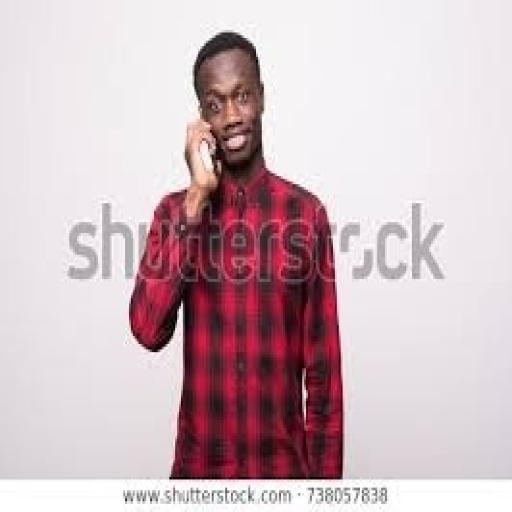calling: (125, 27, 345, 480)
